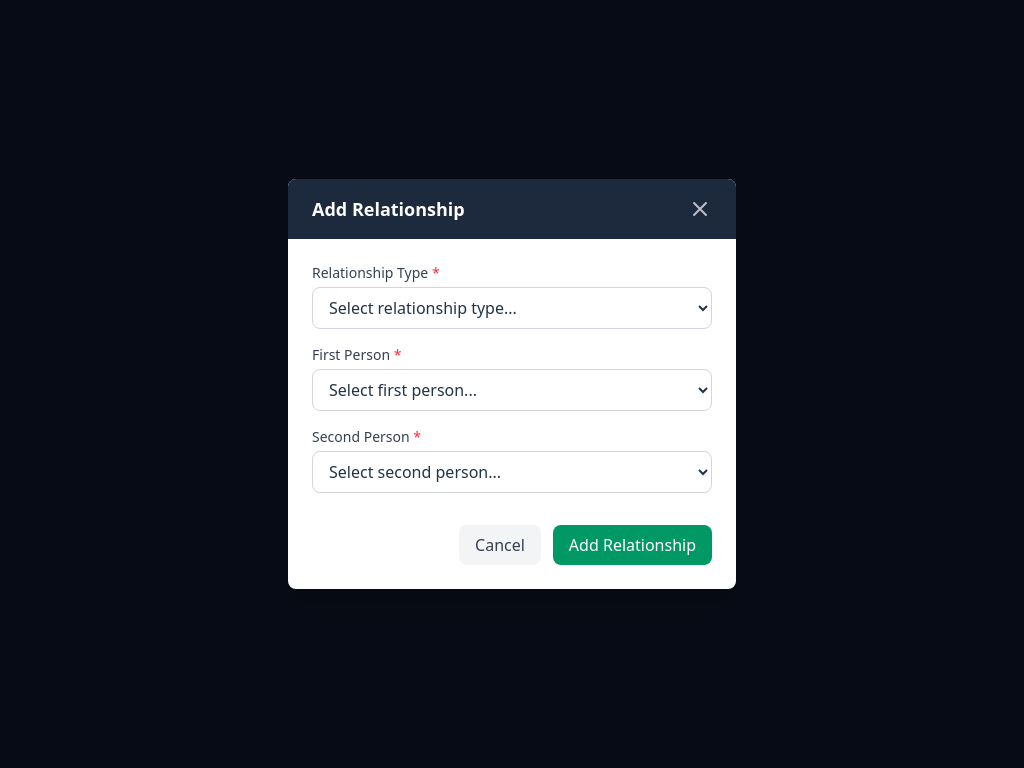
Scenario: AddRelationshipModal › validation › shows error when submitting without person 1
Select "Spouse" in the dropdown labelled "Relationship Type *" at [512, 308], box [312,287,712,329]
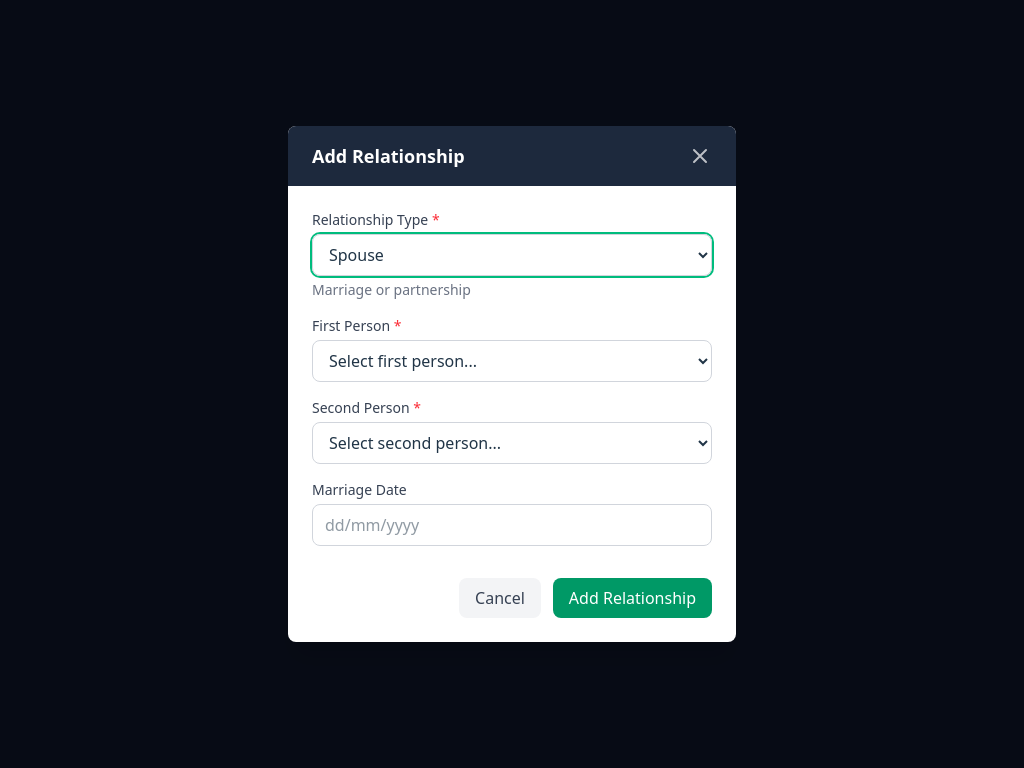
Select "Jane Smith (b. 1962)" in the dropdown labelled "Second Person *" at [512, 443], box [312,422,712,464]
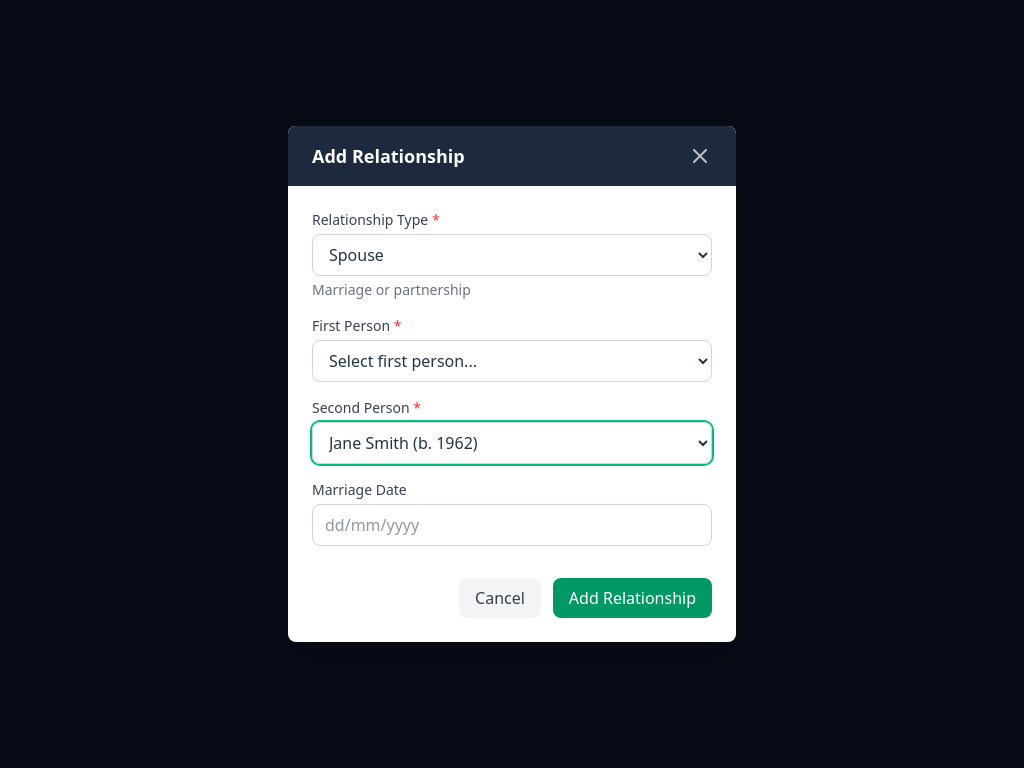
Click the button "Add Relationship" at [632, 598], box [553,578,712,618]
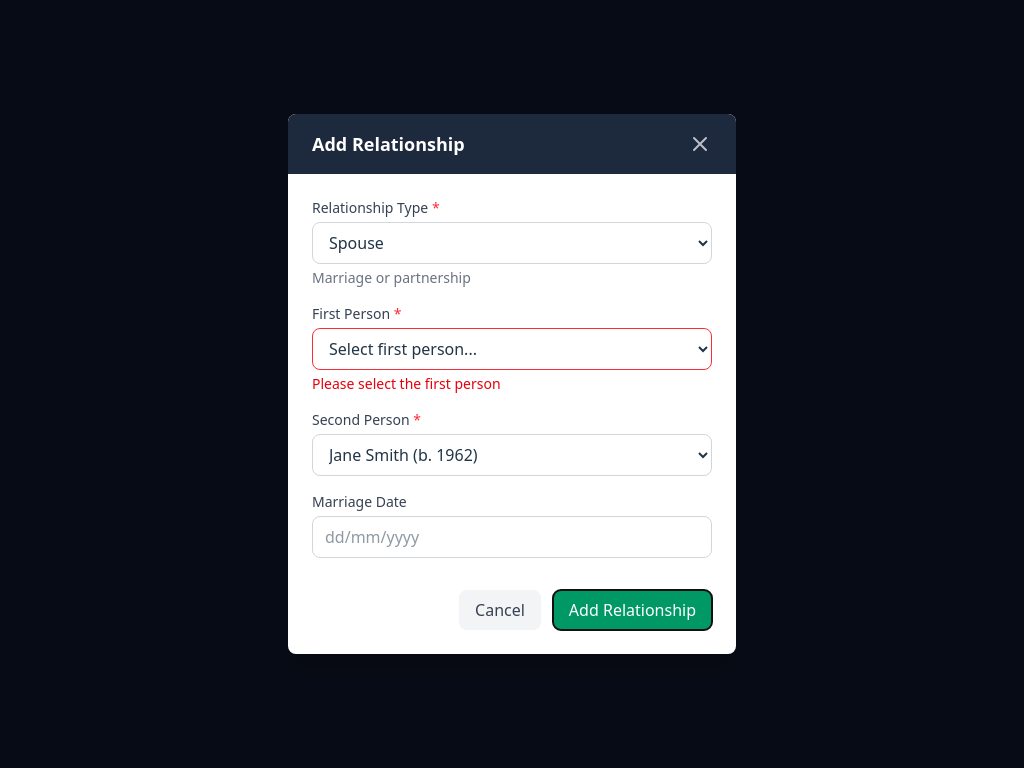
expect the text "Please select the first person" is shown: met, box [312,374,501,393]
